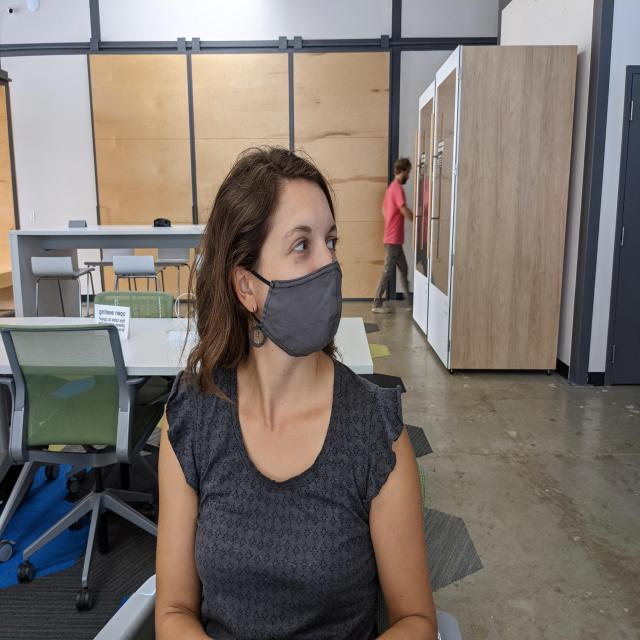face: (244, 191, 344, 358), (401, 163, 411, 184)
